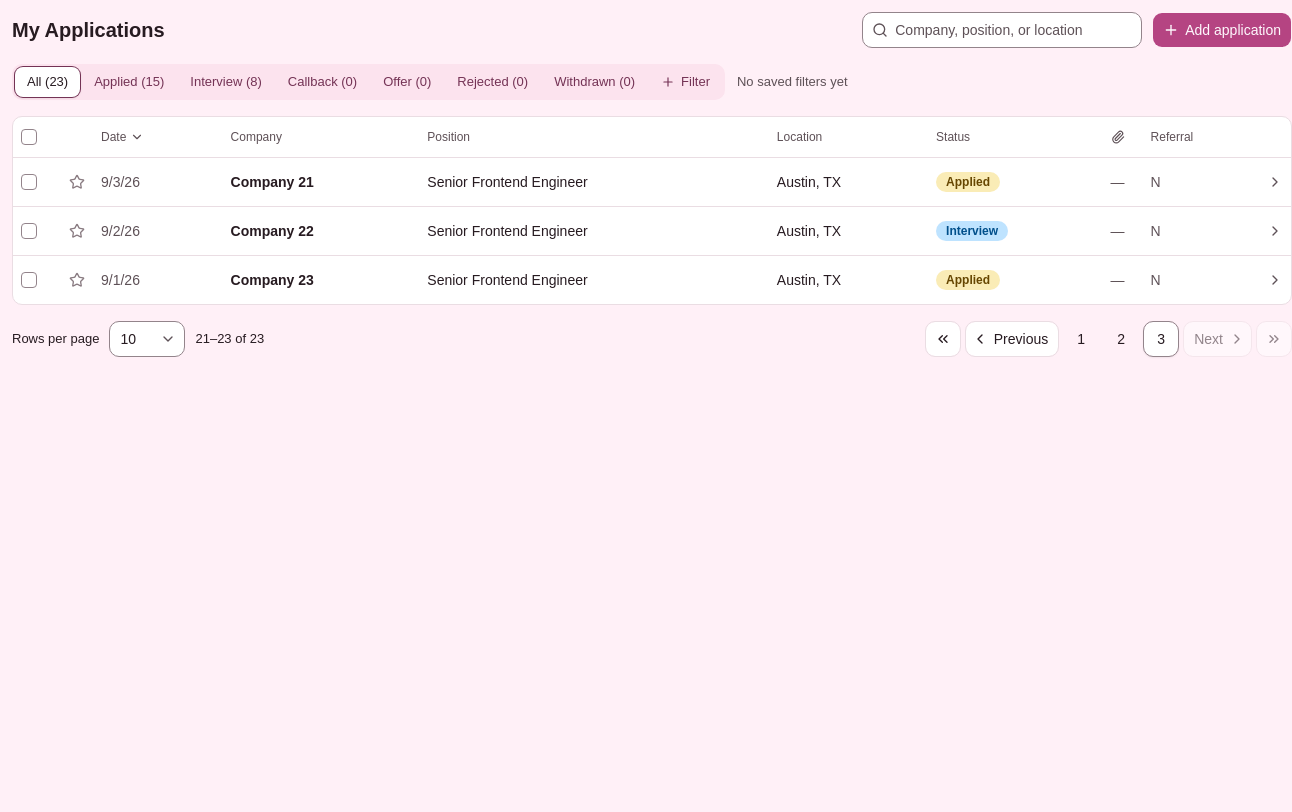
pagination (§4.2) › goes back to page 1 when the filter or the search changes, and counts the whole filtered set
Click the button "Interview (8)" at (226, 82), box [178,67,274,97]
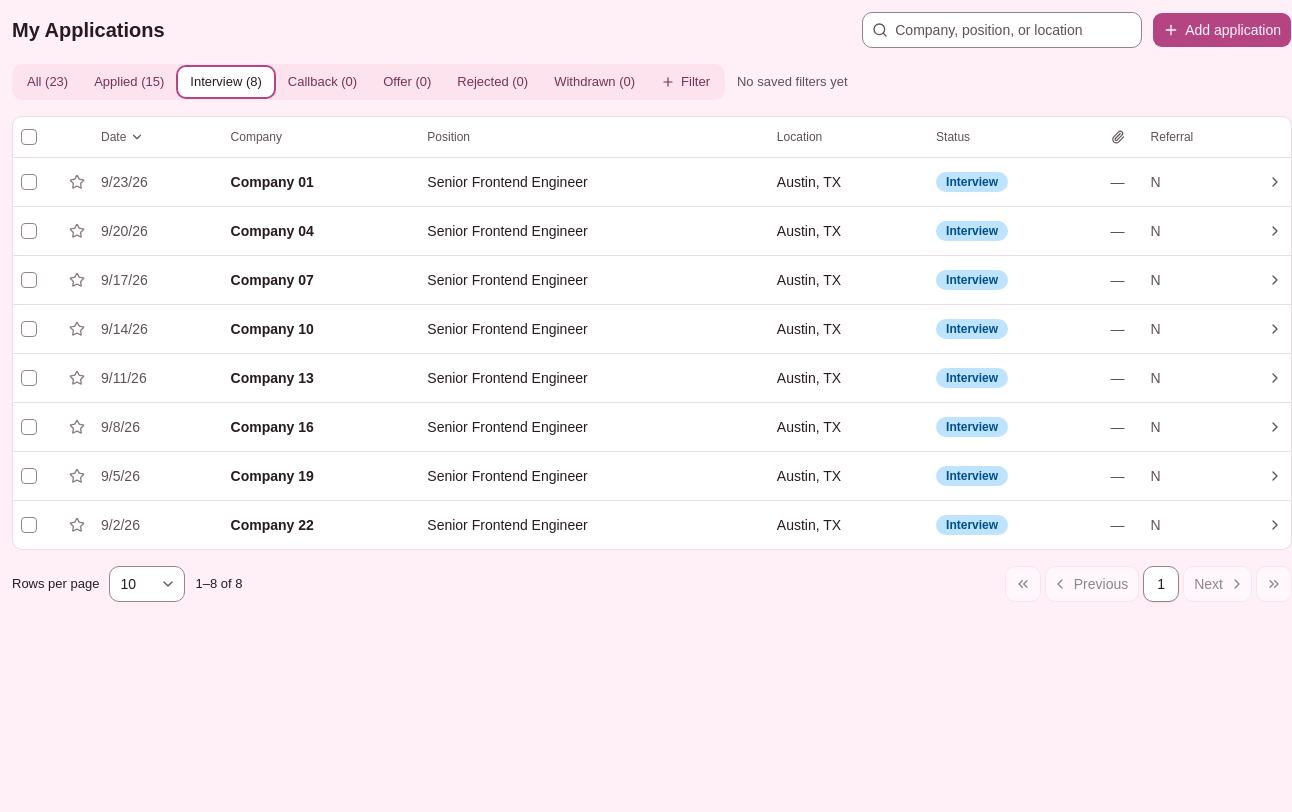
Check: the text "1–8 of 8" is shown, box [196,576,242,591]
Click the button "All (23)" at (48, 82), box [15,67,80,97]
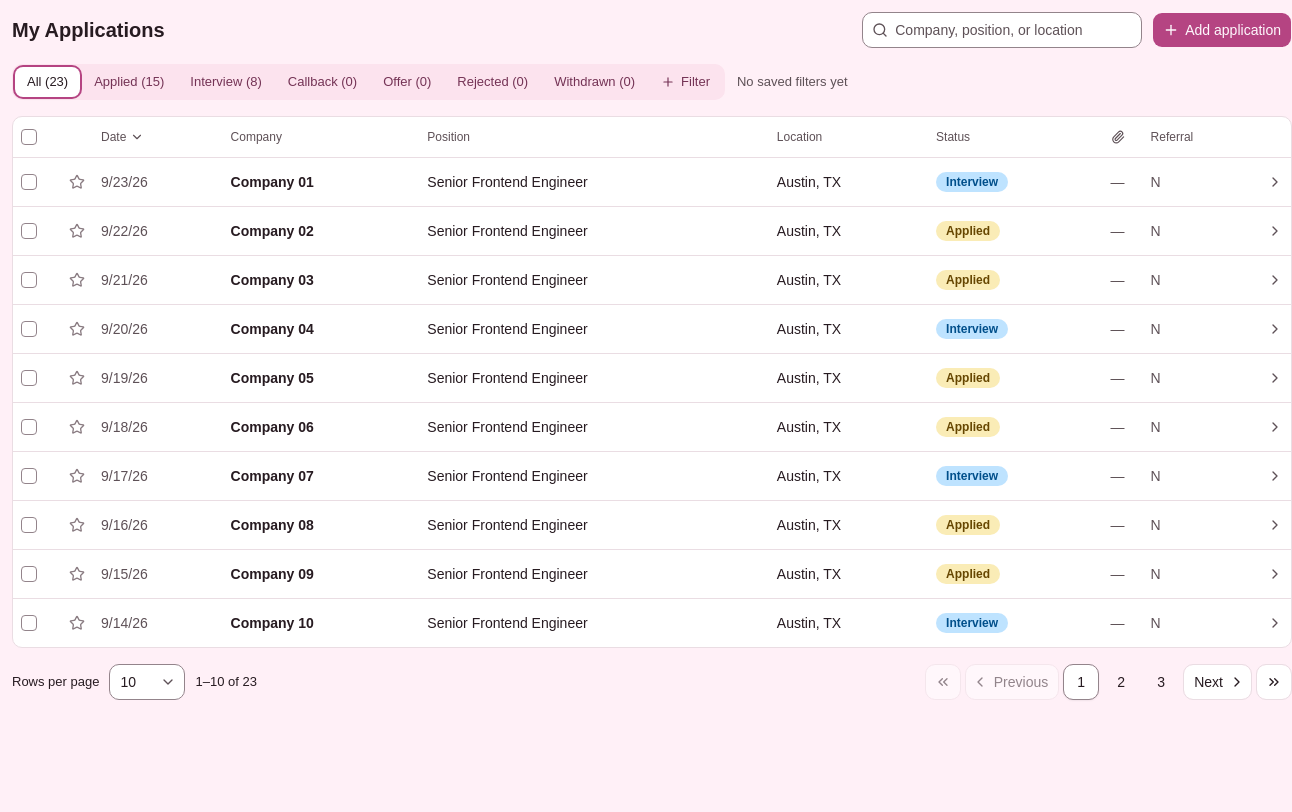
Click the link named "Page 3" at (1161, 682), box [1157,674,1165,690]
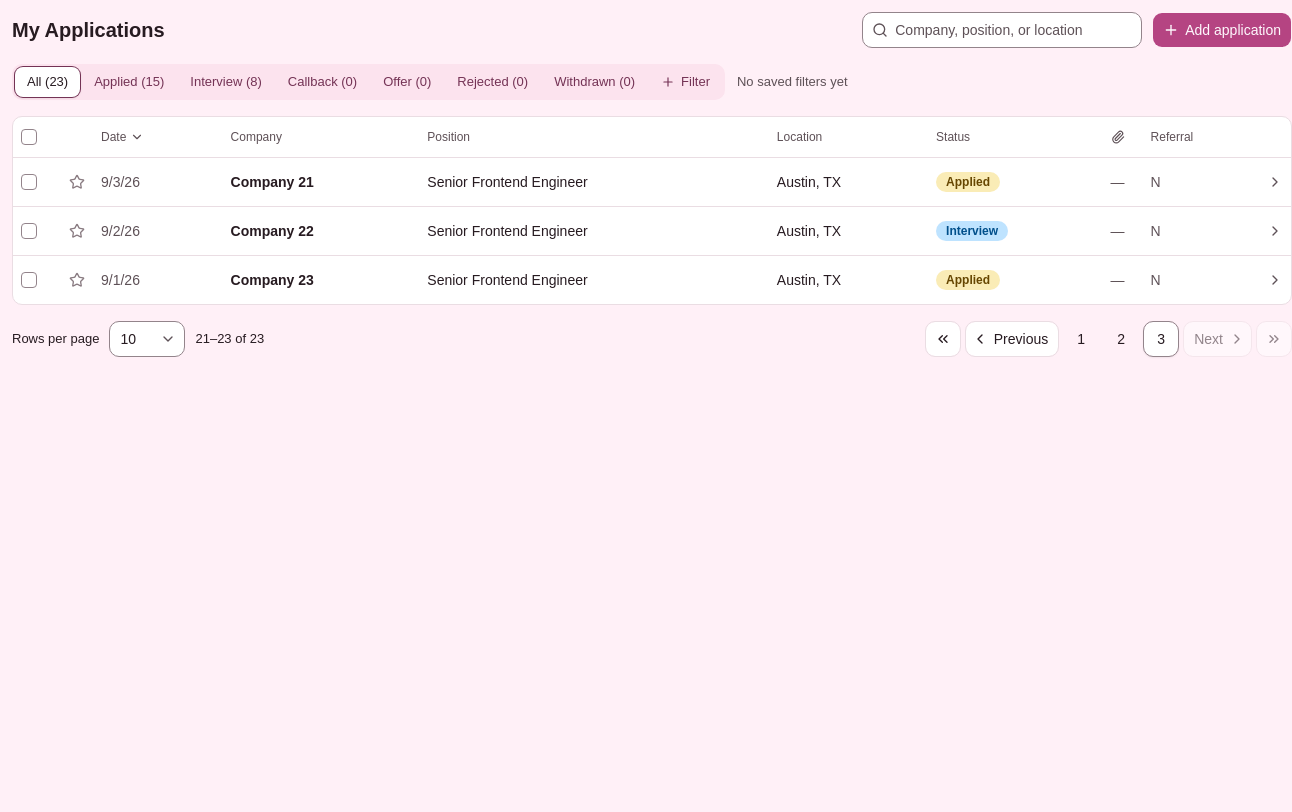
Type "Company 1" into the search field named "Search" at (1002, 30), box [862,12,1142,48]
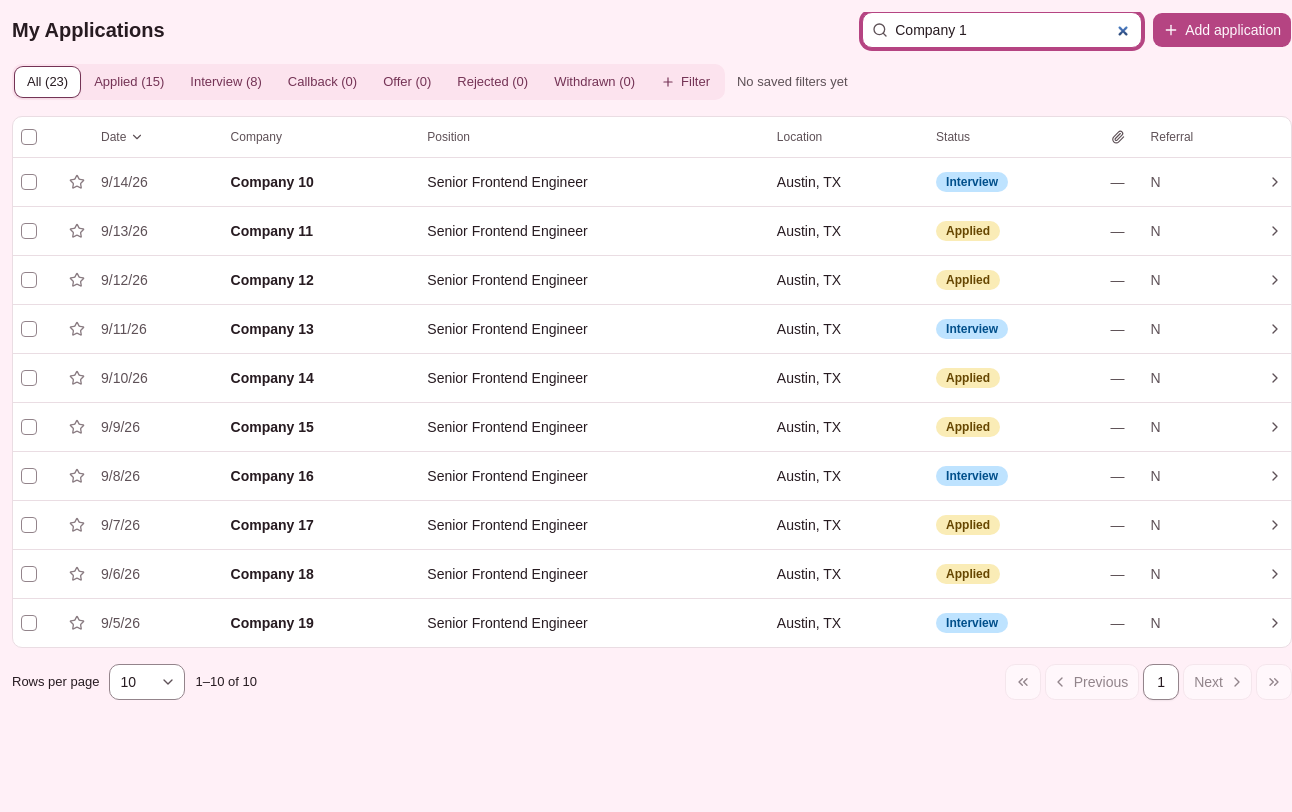
Check: the text "1–10 of 10" is shown, box [196,674,257,689]
